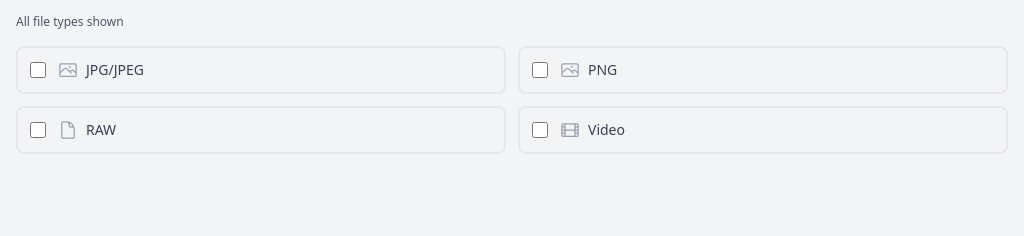
it: FileTypeFilter › Rendering › shows extension info when types selected
What coordinates should you click on to do the following:
click the checkbox named "select file type jpg"
I would click on:
 (38, 70)
Its box is [30, 62, 46, 78].
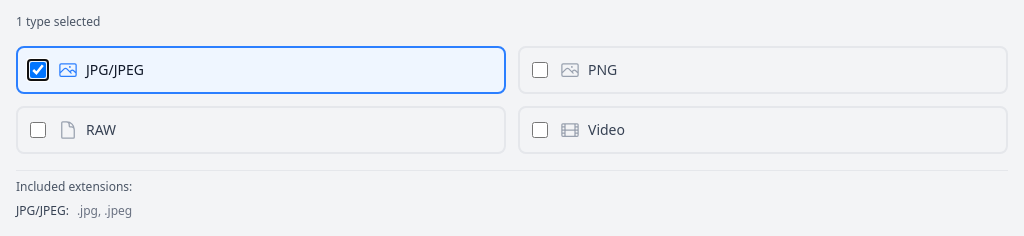
Expected: the text "Included extensions:" is shown, [16, 178, 132, 195]
Expected: the text ".jpg, .jpeg" is shown, [77, 203, 132, 219]
